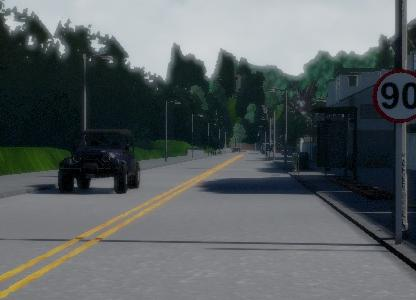Speed_90: (370, 64, 416, 128)
